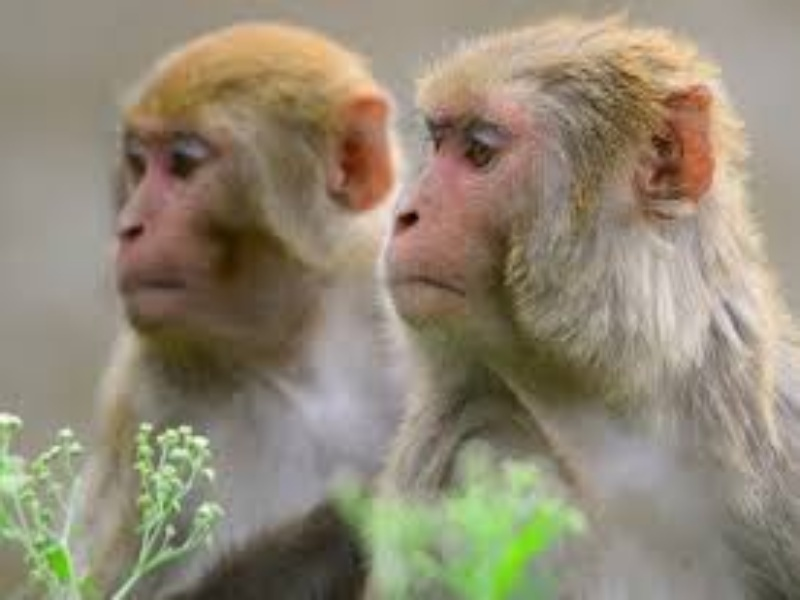monkey: (384, 30, 800, 578), (69, 19, 390, 589)
